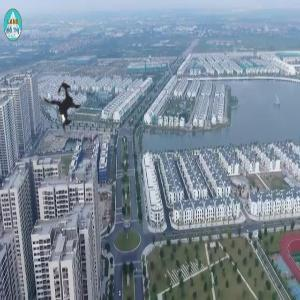drone: (20, 65, 107, 152)
